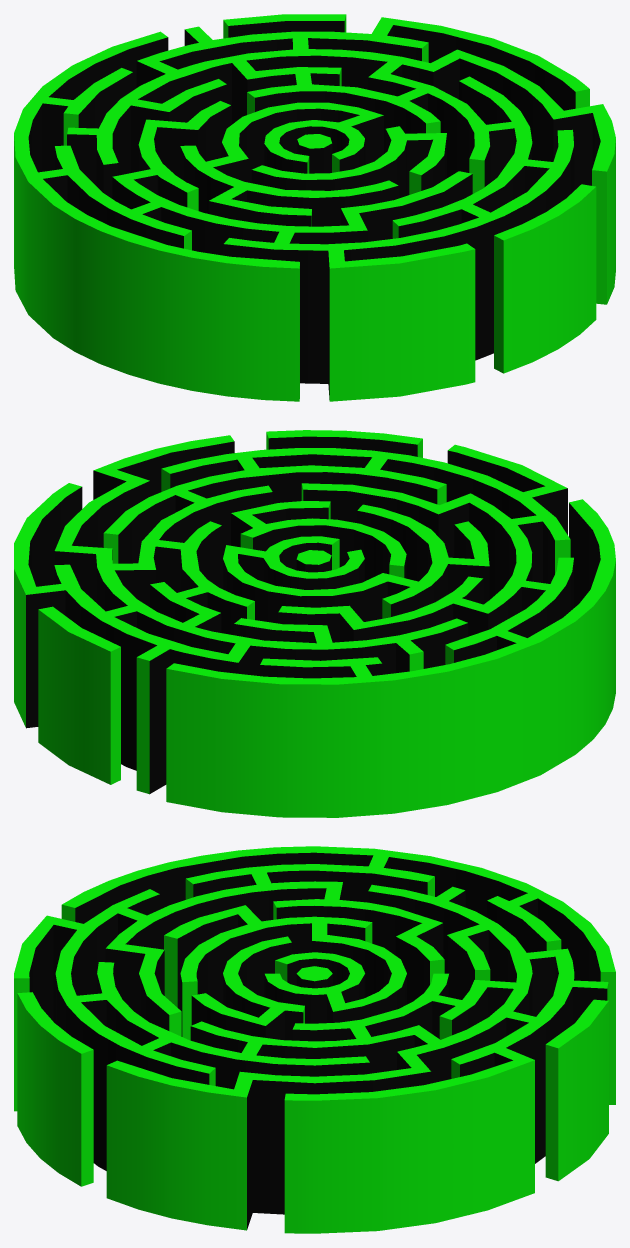
Rendered from GreenMaze.obj.
3 renders of one model, top to bottom at view 1: azimuth 30°, elevation 25°; view 2: azimuth 150°, elevation 25°; view 3: azimuth 270°, elevation 25°, orthographic.
Visible parts, largest first — view 1: Mesh1 Model, Mesh3 Model, Mesh6 Model, Mesh2 Model, Mesh5 Model, Mesh4 Model; view 2: Mesh1 Model, Mesh3 Model, Mesh5 Model, Mesh2 Model, Mesh6 Model, Mesh4 Model; view 3: Mesh1 Model, Mesh3 Model, Mesh6 Model, Mesh5 Model, Mesh2 Model, Mesh4 Model.
Part boxes in pixels (x1,y1,x2,y2): Mesh1 Model: (14,17,615,401); Mesh3 Model: (180,102,398,226); Mesh6 Model: (494,184,596,373); Mesh2 Model: (251,126,446,198); Mesh5 Model: (223,14,346,38); Mesh4 Model: (297,134,332,173); Mesh1 Model: (14,435,615,817); Mesh3 Model: (223,504,489,623); Mesh5 Model: (38,606,120,784); Mesh2 Model: (231,501,406,580); Mesh6 Model: (266,430,422,457); Mesh4 Model: (296,550,331,572); Mesh1 Model: (14,846,615,1233); Mesh3 Model: (164,905,406,1040); Mesh6 Model: (17,992,93,1186); Mesh5 Model: (545,999,608,1181); Mesh2 Model: (191,936,304,1040); Mesh4 Model: (296,966,332,988).
Size of the model in its own units: 493 by 120 by 492.
